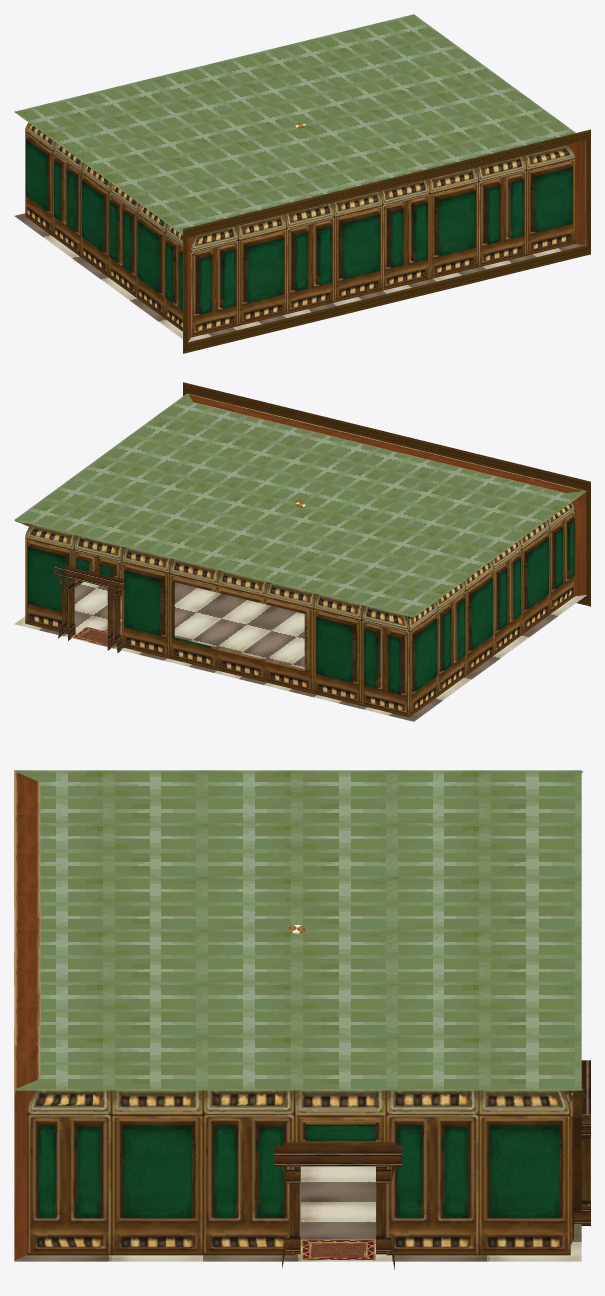
Rendered from room_12.glb.
The picture shows the model from 3 angles, top to bottom: view 1: azimuth 30°, elevation 25°; view 2: azimuth 150°, elevation 25°; view 3: azimuth 270°, elevation 25°; orthographic projection. The views are drawn at different scales.
Visible parts, largest first — view 1: room_12; view 2: room_12; view 3: room_12.
Part boxes in pixels (x1=…): room_12: x1=14, y1=14, x2=590, y2=353; room_12: x1=14, y1=382, x2=590, y2=721; room_12: x1=14, y1=770, x2=590, y2=1269.
Size of the model in its own units: 2075 by 600 by 1530.
Materials: 12 (12 with a texture image).
